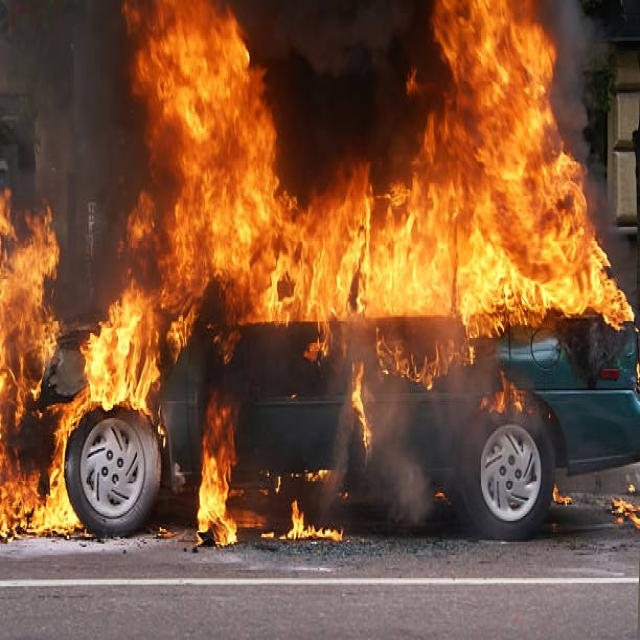fire: (440, 4, 582, 328), (169, 170, 440, 320), (142, 4, 272, 165), (0, 200, 59, 540), (85, 293, 156, 408), (196, 422, 242, 546), (283, 503, 340, 540), (351, 362, 372, 452)
